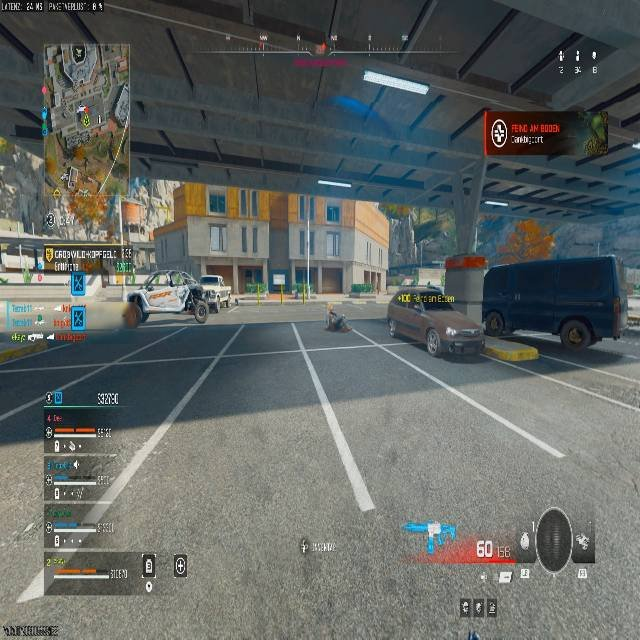head: (326, 303, 334, 313)
player: (180, 283, 217, 320), (323, 304, 353, 334), (124, 291, 148, 327)
